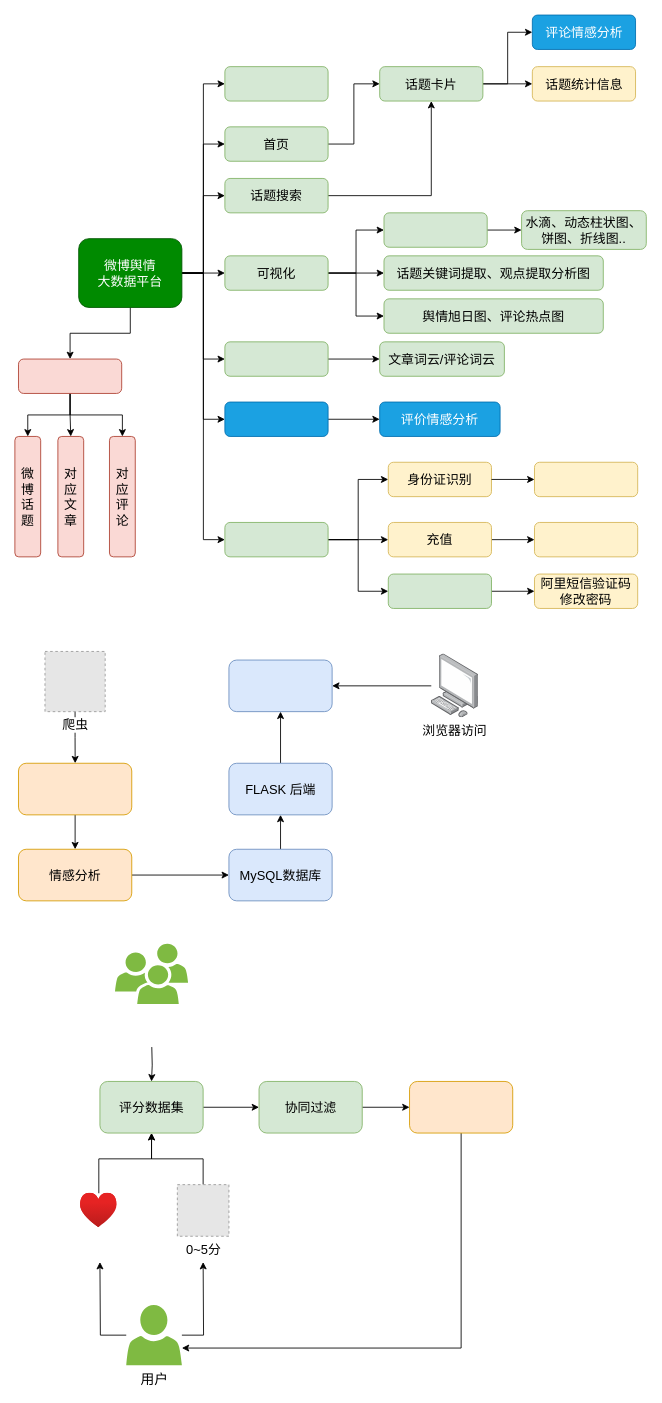
Some shapes in this 662 by 1403 pixel diagram are drawn without their labels. Grey dashed boxes stand in for pictures. Here are the shapes that lost their labels. From the top down, the centre of each, then its label:
the point at 276,83: 登录与注册
the point at 435,229: Echarts分析大屏
the point at 70,375: 爬虫模块
the point at 276,358: 词云
the point at 276,418: 深度学习 情感分析模型
the point at 586,479: 百度AI图像识别
the point at 276,539: 设置
the point at 586,539: 支付宝沙箱支付
the point at 439,590: 修改个人信息
the point at 280,685: Vue前端
the point at 75,788: 话题、文章、评论
the point at 151,973: N个其他用户的评分
the point at 461,1107: 推荐
the point at 98,1210: 5分
